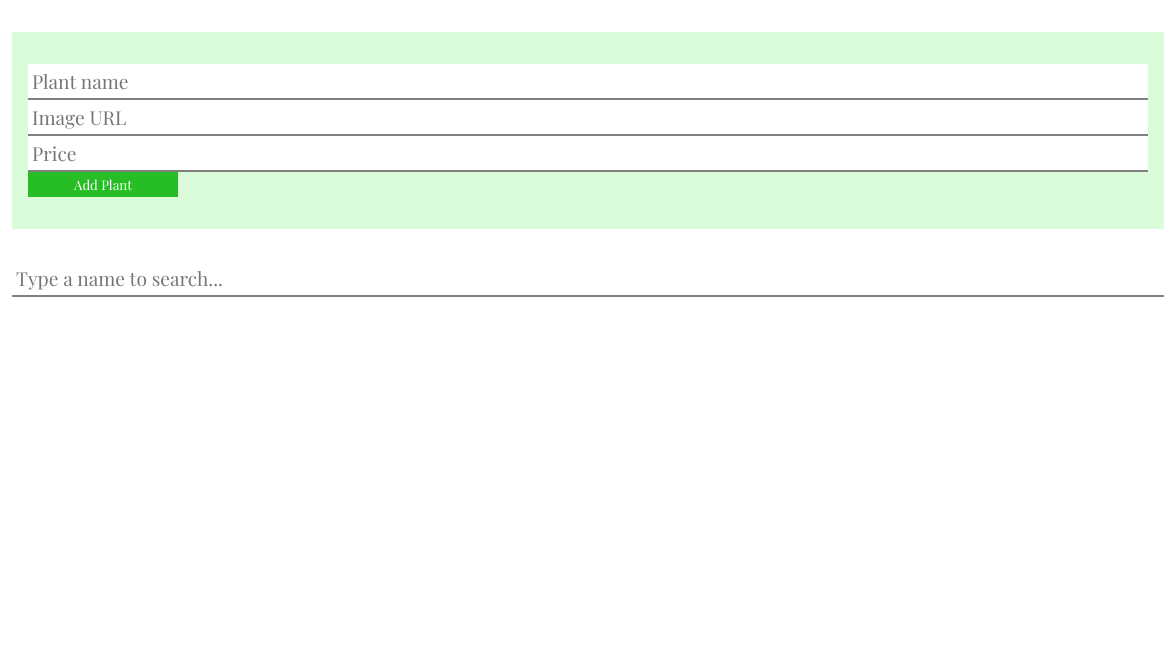
Test: 4th Deliverable › filters plants by name on search
Filter by 'aloe'
Type "aloe" into the field with placeholder "Type a name to search...".
click(588, 279); type("aloe")  # box left=12, top=261, right=1164, bottom=297
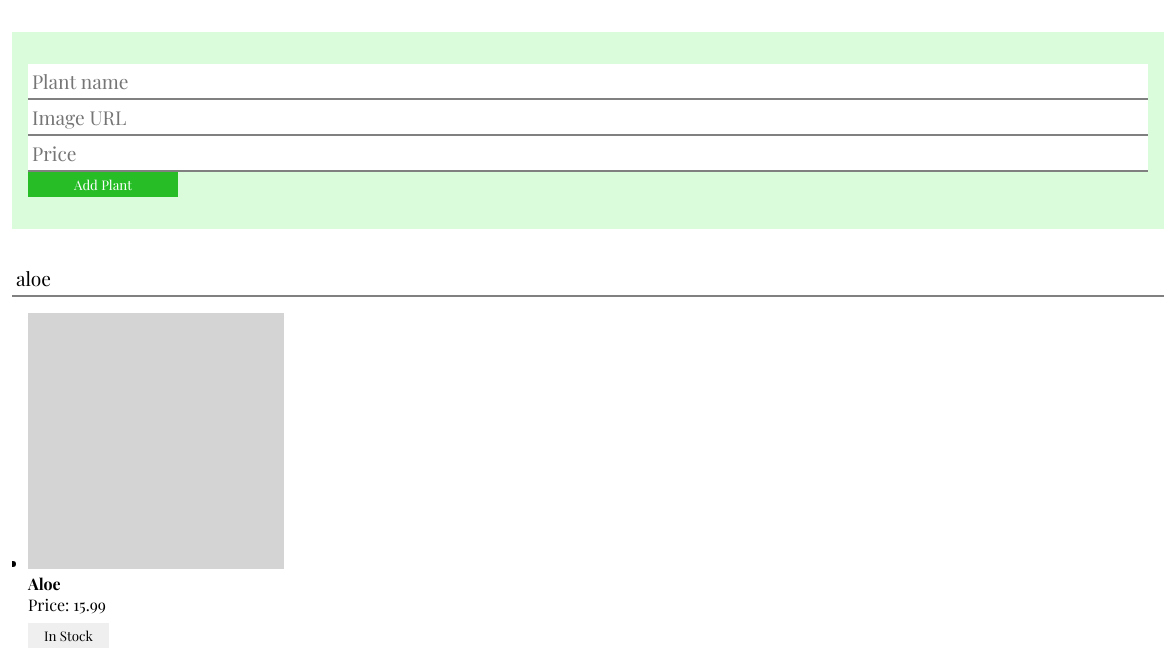
Filter by 'p'
Replace the text in the field with placeholder "Type a name to search..." with "p" at (588, 279), box left=12, top=261, right=1164, bottom=297
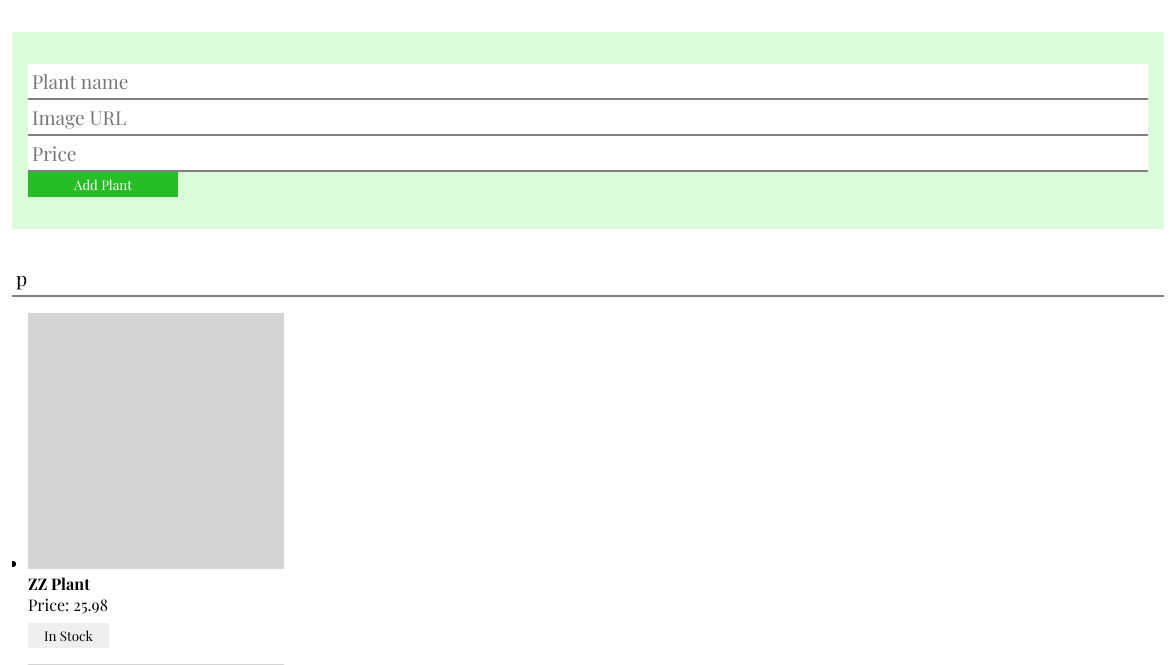
Check: the number of list items with test id "plant-item" is 3
